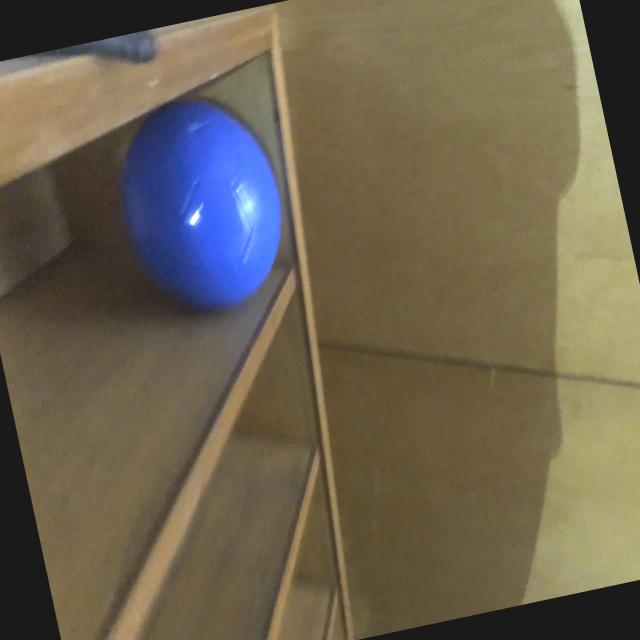blue_ball: (98, 78, 302, 330)
